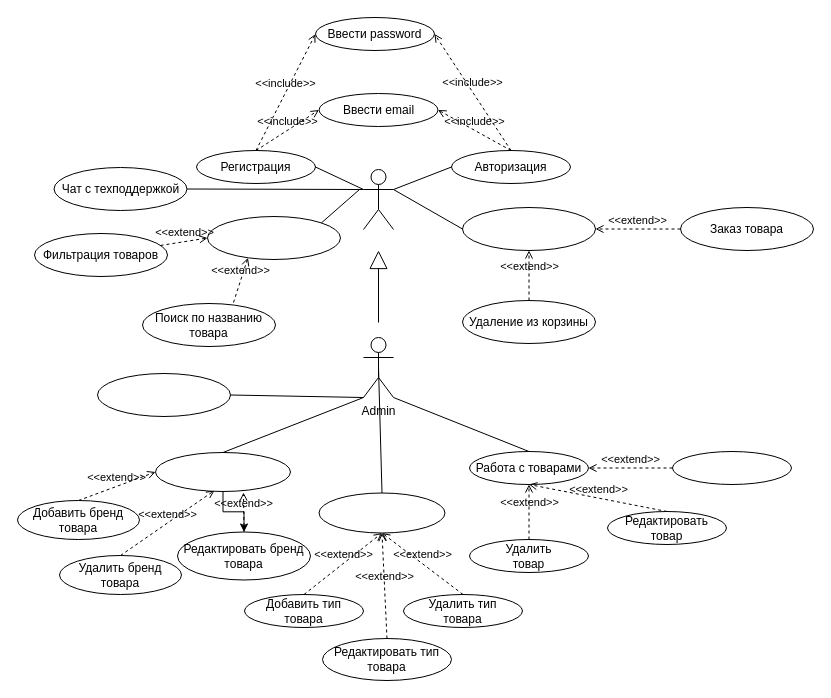
This 831x698 diagram has some shape labels left out. Here are the shapes that lost their labels. From the top down, the centre of each, then its label:
At (378,199): "User".
At (273,238): "Просмотр товаров".
At (529,228): "Добавление товара в корзину".
At (163,394): "Чат с пользователем".
At (222,472): "Работа с брендами товара".
At (732,467): "Добавить товар".
At (381,512): "Работа с типами товара".
